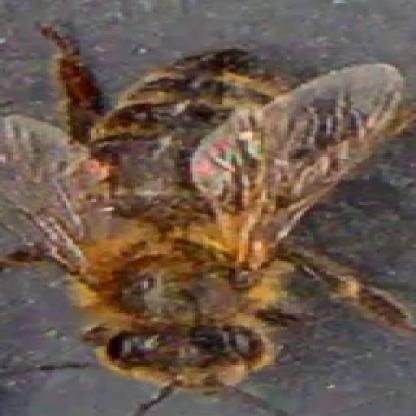bee: (55, 40, 300, 386)
